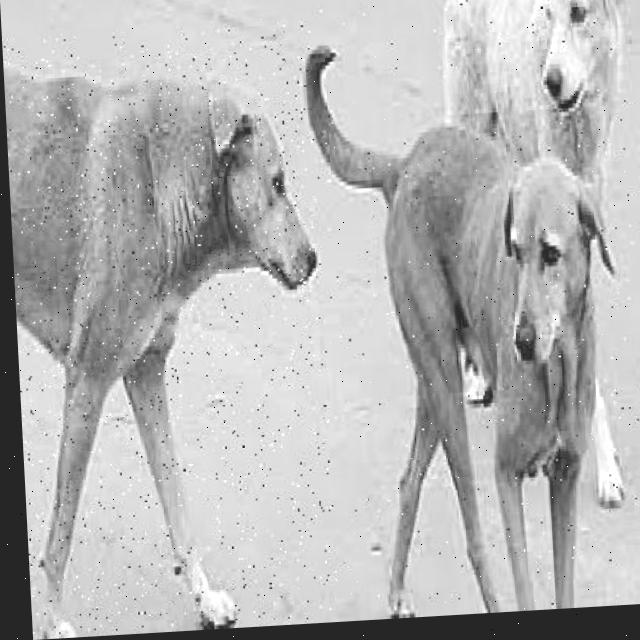Dog: (2, 22, 341, 637), (295, 0, 622, 620), (434, 0, 640, 516)
